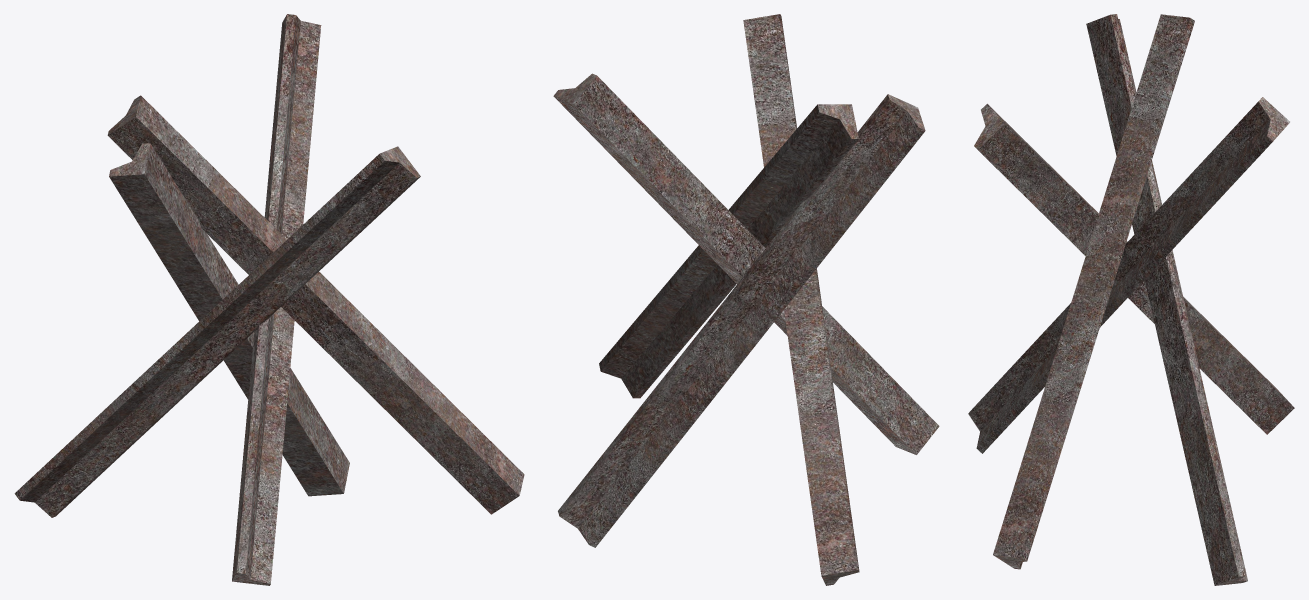
Rendered from HedgeHog.fbx.
3 views of the same model, side by side, from view 1: azimuth 30°, elevation 25°; view 2: azimuth 150°, elevation 25°; view 3: azimuth 270°, elevation 25° (orthographic).
Parts seen in each view (by area): view 1: Cube.002, Cube.001, Cube.004, Cube.003; view 2: Cube.003, Cube.004, Cube.002, Cube.001; view 3: Cube.002, Cube.003, Cube.004, Cube.001.
Part boxes in pixels (x1=…): Cube.002: x1=107, y1=95, x2=524, y2=514; Cube.001: x1=14, y1=146, x2=420, y2=517; Cube.004: x1=232, y1=14, x2=321, y2=585; Cube.003: x1=109, y1=143, x2=349, y2=496; Cube.003: x1=558, y1=94, x2=925, y2=547; Cube.004: x1=553, y1=73, x2=939, y2=454; Cube.002: x1=599, y1=104, x2=858, y2=398; Cube.001: x1=743, y1=14, x2=859, y2=585; Cube.002: x1=993, y1=14, x2=1194, y2=569; Cube.003: x1=1086, y1=14, x2=1247, y2=585; Cube.004: x1=968, y1=97, x2=1289, y2=453; Cube.001: x1=974, y1=103, x2=1294, y2=434.
Bounding box in the file's own units: 3014 × 3589 × 2212.
